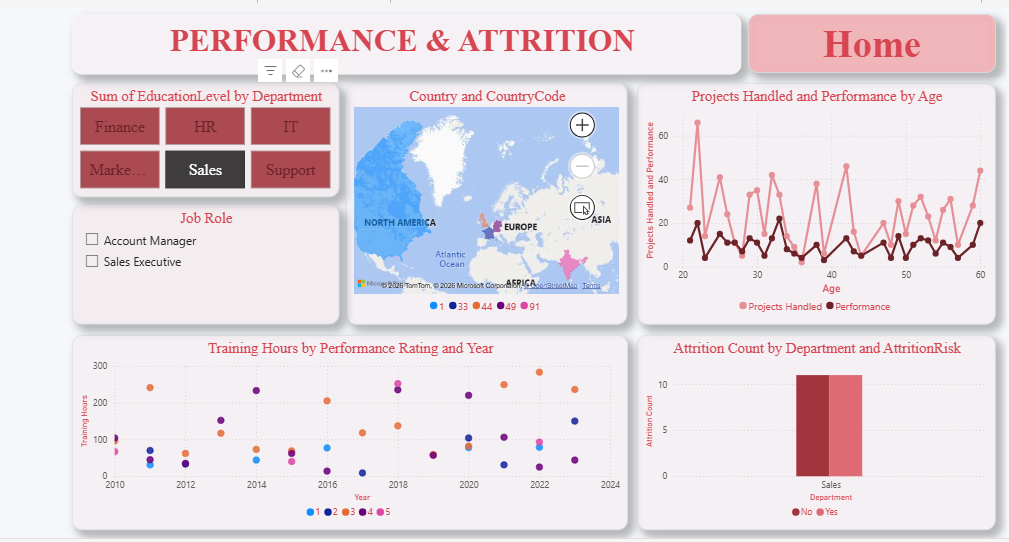

The page's visual inventory and layout, read from the dashboard file:
{"tool":"powerbi","page":{"name":"Department","canvas":[1280,720],"ordinal":1},"visuals":[{"type":"textbox","box":[10.2,8.8,908.8,82],"z":0},{"type":"advancedSlicerVisual","fields":{"Values":["employee_performance_pro.Department"]},"box":[10.2,102.4,362.9,155.1],"z":2000},{"type":"lineChart","fields":{"Y":["Sum(employee_performance_pro.ProjectsHandled)","Sum(employee_performance_pro.PerformanceRating)"],"Category":["employee_performance_pro.Age"]},"box":[778.5,102.4,487.3,327.8],"z":3000},{"type":"clusteredColumnChart","fields":{"Y":["employee_performance_pro.Attrition Count"],"Series":["employee_performance_pro.AttritionRisk"],"Category":["employee_performance_pro.Department"]},"box":[778.5,444.9,487.3,264.9],"z":4000},{"type":"filledMap","fields":{"Category":["employee_performance_pro.Country"],"Series":["employee_performance_pro.CountryCode"]},"box":[383.4,102.4,382,327.8],"z":5000},{"type":"scatterChart","fields":{"Y":["Sum(employee_performance_pro.TrainingHours)"],"X":["employee_performance_pro.JoiningDate.Variation.Date Hierarchy.Year","employee_performance_pro.JoiningDate.Variation.Date Hierarchy.Quarter","employee_performance_pro.JoiningDate.Variation.Date Hierarchy.Month","employee_performance_pro.JoiningDate.Variation.Date Hierarchy.Day"],"Series":["employee_performance_pro.PerformanceRating"]},"box":[10.2,444.9,755.1,264.9],"z":6000},{"type":"slicer","title":"Job Role","fields":{"Values":["employee_performance_pro.JobRole"]},"box":[10.2,267.8,362.9,162.4],"z":7000},{"type":"actionButton","box":[929.3,8.8,336.6,80.5],"z":7001}]}

Visuals, with their boxes on the page's 1280x720 design canvas (x1, y1, x2, y2). These are canvas units, not pixel positions in the 1009x542 screenshot, which may show the page scaled, cropped or inside an application window:
textbox: <bbox>10, 9, 919, 91</bbox>
advancedSlicerVisual - employee_performance_pro.Department: <bbox>10, 102, 373, 258</bbox>
lineChart - Sum(employee_performance_pro.ProjectsHandled) x Sum(employee_performance_pro.PerformanceRating): <bbox>778, 102, 1266, 430</bbox>
clusteredColumnChart - employee_performance_pro.Attrition Count x employee_performance_pro.AttritionRisk: <bbox>778, 445, 1266, 710</bbox>
filledMap - employee_performance_pro.Country x employee_performance_pro.CountryCode: <bbox>383, 102, 765, 430</bbox>
scatterChart - Sum(employee_performance_pro.TrainingHours) x employee_performance_pro.JoiningDate.Variation.Date Hierarchy.Year: <bbox>10, 445, 765, 710</bbox>
"Job Role" slicer: <bbox>10, 268, 373, 430</bbox>
actionButton: <bbox>929, 9, 1266, 89</bbox>
